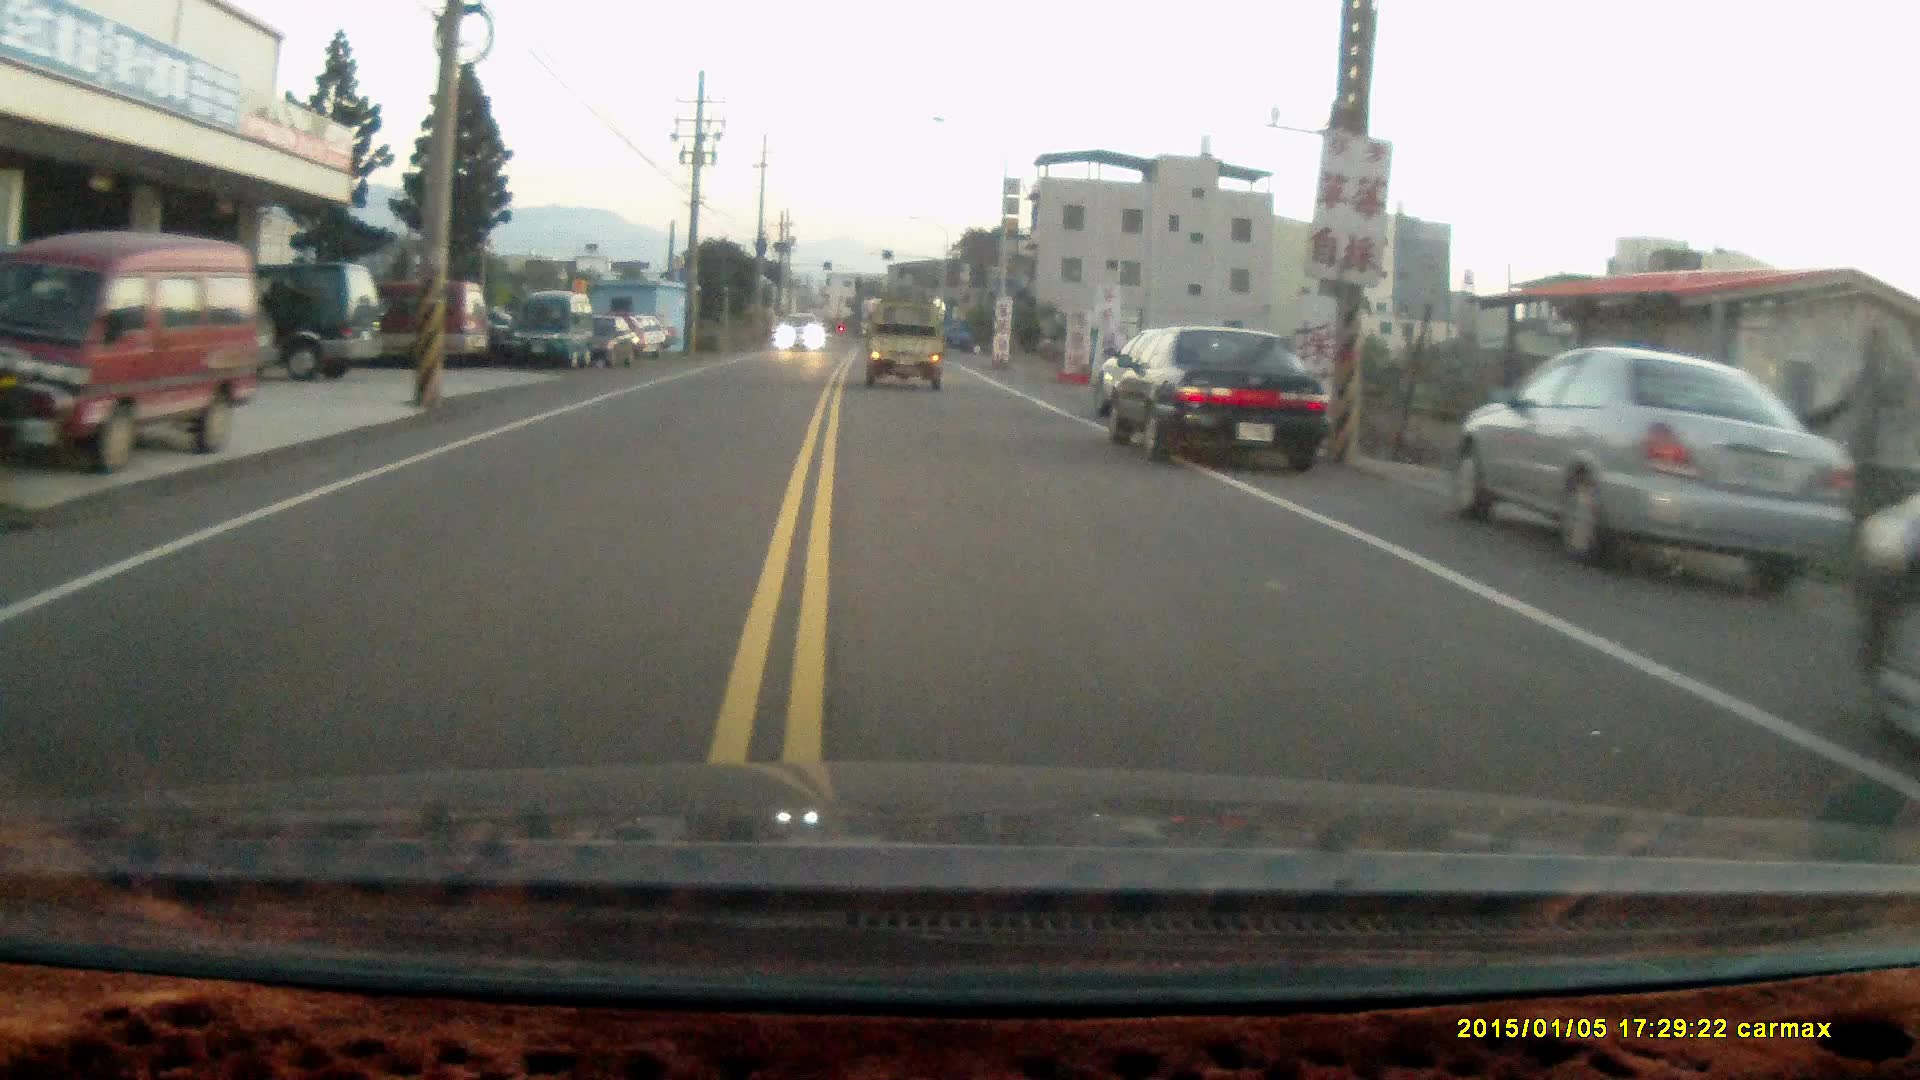vehicle: (1456, 343, 1869, 584), (8, 224, 273, 465), (1101, 320, 1333, 477), (160, 253, 386, 382), (1840, 491, 1920, 750), (330, 274, 498, 363), (862, 294, 951, 386), (513, 284, 603, 367), (775, 309, 825, 351)
